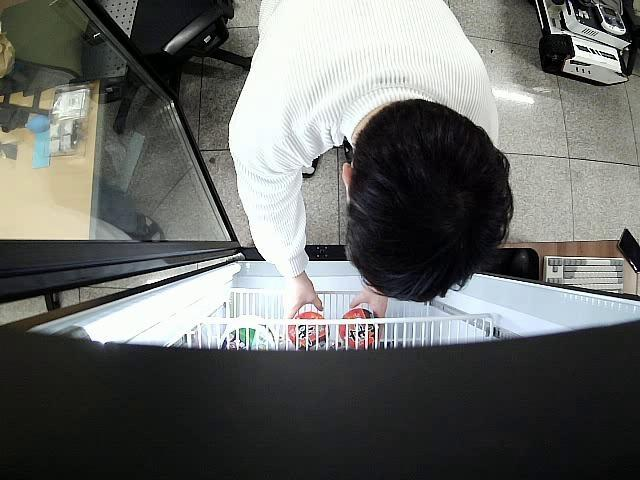02_shinRamen_S: (340, 308, 381, 349), (290, 310, 330, 351)
